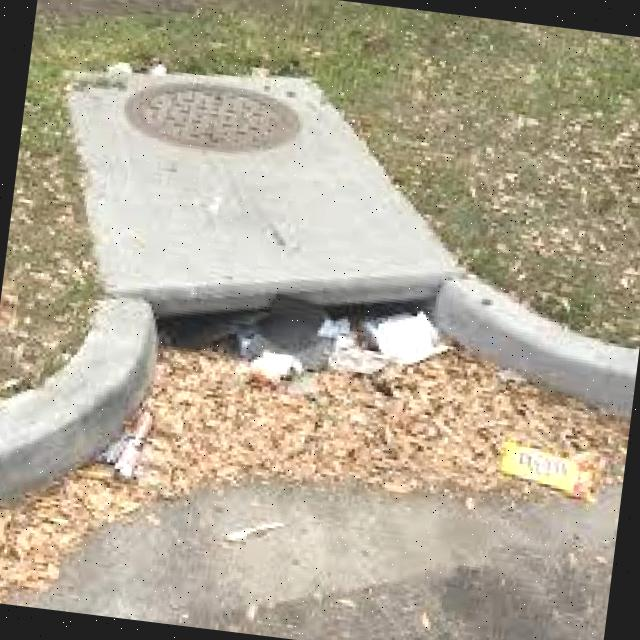curb: (160, 231, 459, 394), (1, 296, 179, 511), (441, 275, 640, 419)
